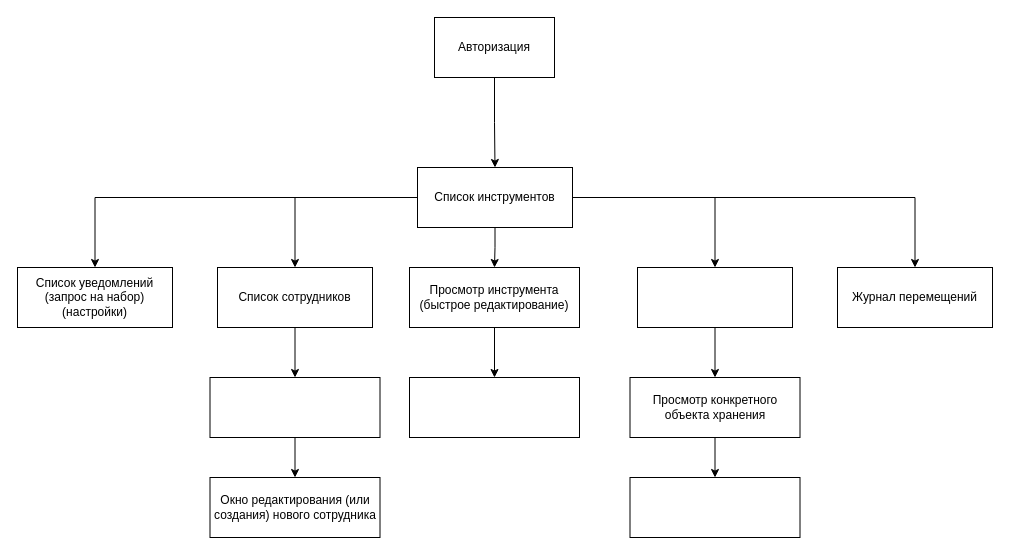
Some shapes in this 1010 by 555 pixel diagram are drawn without their labels. The centre of each missing label's shape, as x and y in pixels:
"Подробное редактирование инструмента" belongs at (x=494, y=407).
"Просмотр конкретного сотрудника" belongs at (x=294, y=407).
"Редактирование объекта хранения (локации)" belongs at (x=714, y=507).
"Список объектов хранения" belongs at (x=714, y=297).
